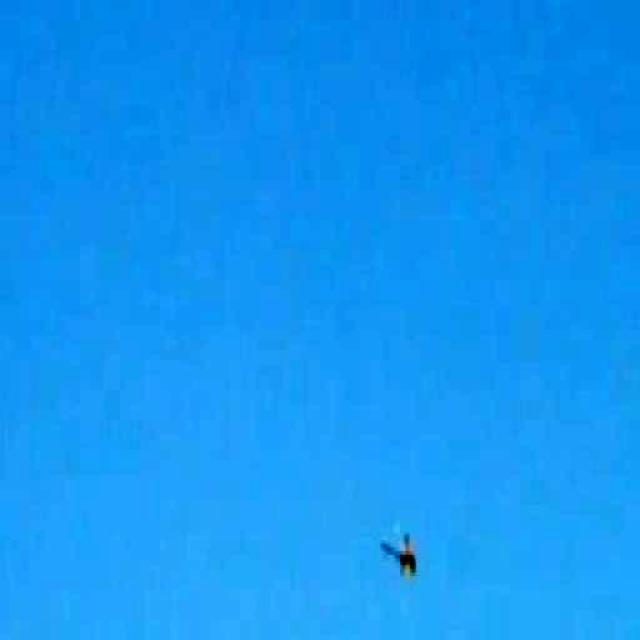drone: (381, 515, 426, 582)
